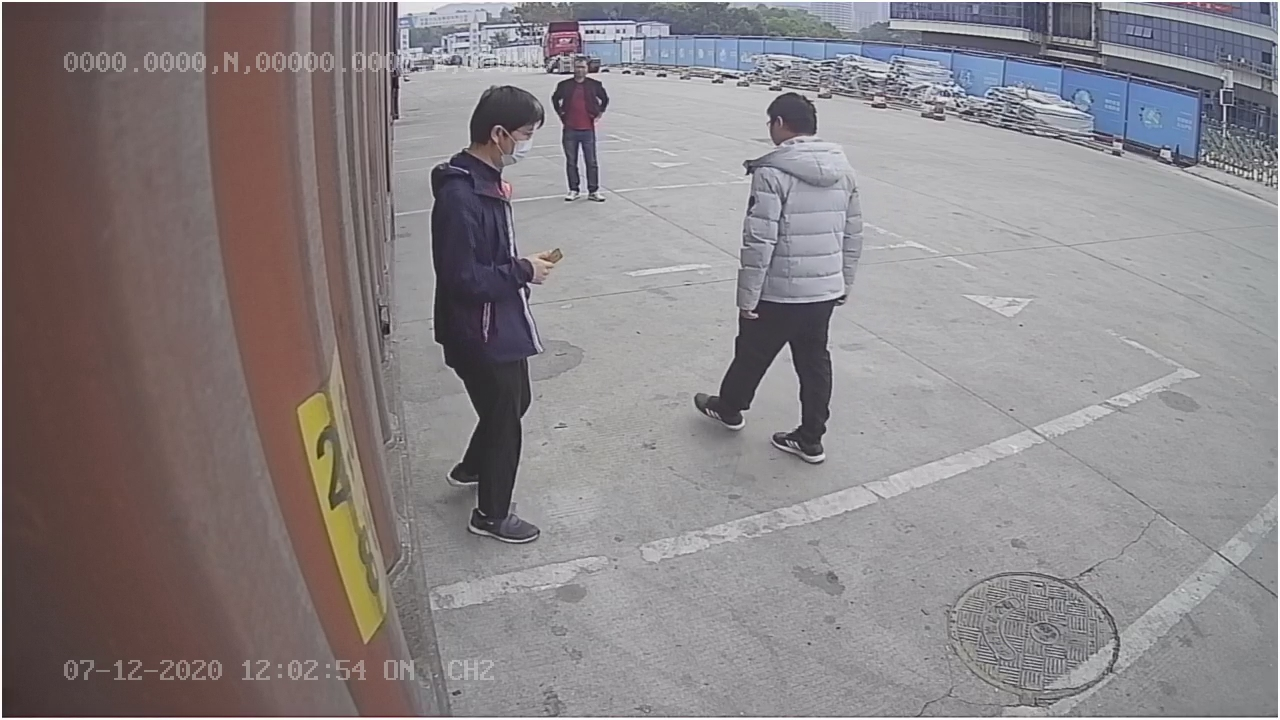person: (690, 84, 867, 462)
